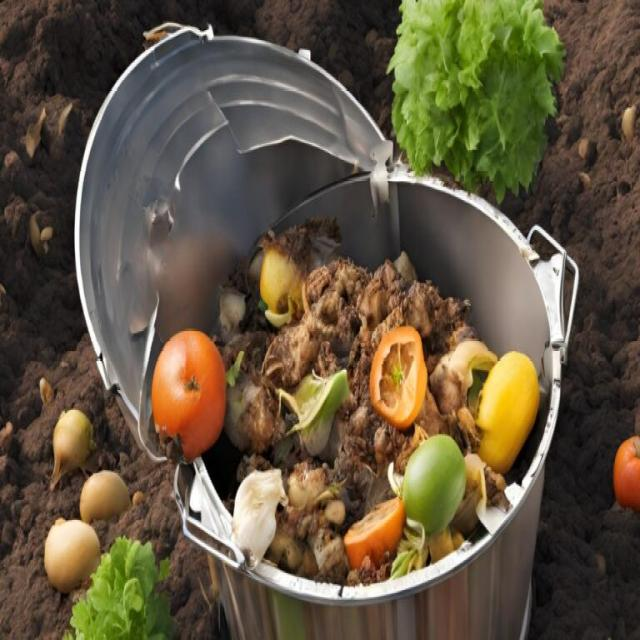Organik: (373, 9, 571, 194), (20, 482, 174, 640), (140, 315, 242, 473), (358, 307, 436, 421), (396, 433, 478, 533), (606, 427, 640, 518)
